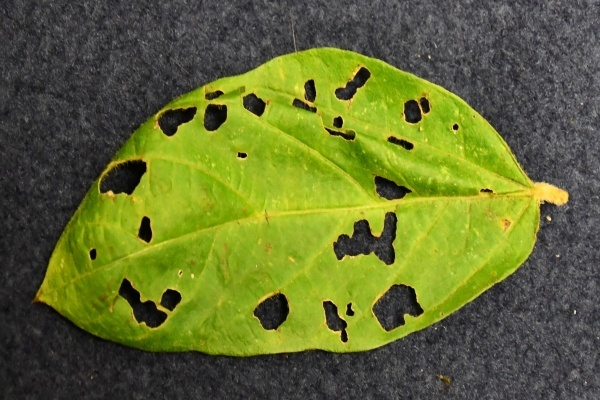Internal Damage: (334, 212, 390, 275), (120, 279, 170, 340), (372, 285, 420, 338), (322, 299, 369, 333), (254, 291, 295, 329), (336, 66, 377, 101), (375, 176, 402, 213), (403, 96, 433, 125), (294, 81, 326, 105), (244, 93, 268, 120), (139, 216, 168, 233), (387, 135, 402, 163), (325, 117, 345, 138), (501, 218, 515, 230), (480, 187, 491, 201)
